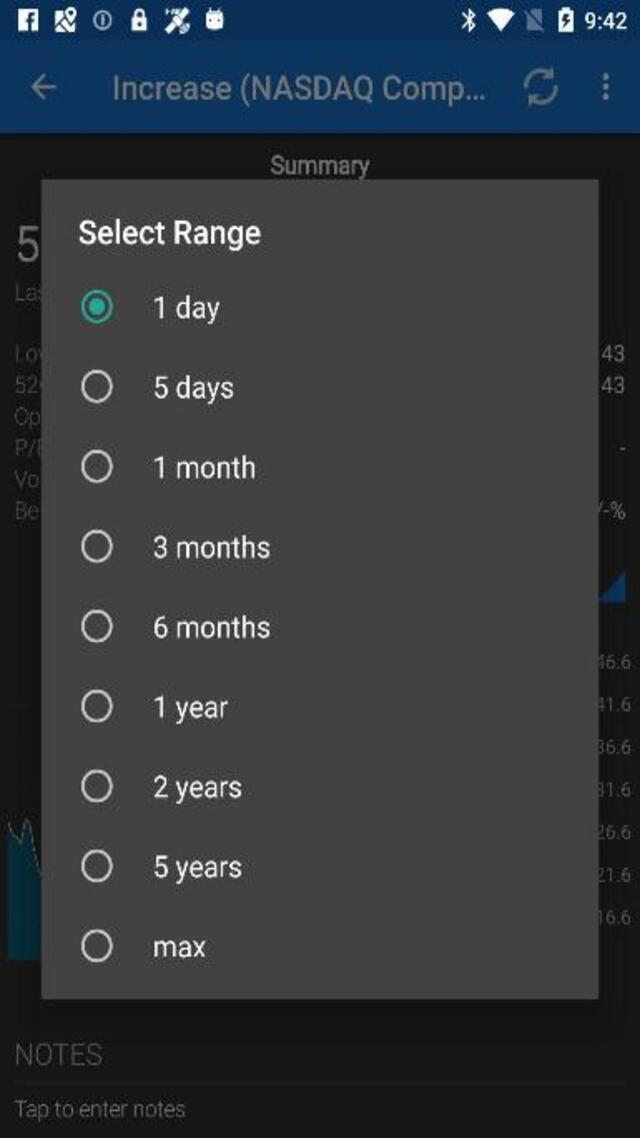CheckedTextView: (81, 529, 271, 563), (80, 610, 268, 642), (80, 768, 242, 804), (80, 848, 242, 884), (82, 450, 255, 482), (82, 368, 235, 404), (81, 689, 228, 723), (82, 290, 222, 324), (82, 930, 207, 962)
Icon: (523, 67, 558, 108), (29, 73, 56, 101), (602, 72, 608, 99)
Text: (113, 72, 484, 106), (79, 218, 260, 251), (14, 1099, 185, 1120), (153, 534, 269, 558), (156, 614, 270, 638), (154, 775, 242, 804), (155, 856, 241, 884), (154, 374, 234, 404), (154, 454, 254, 478), (154, 696, 228, 724), (15, 1043, 100, 1066), (156, 296, 220, 324), (153, 940, 206, 958)
